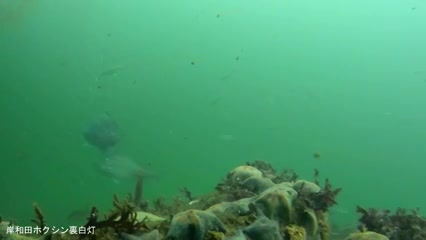smallfish: (78, 106, 132, 154)
